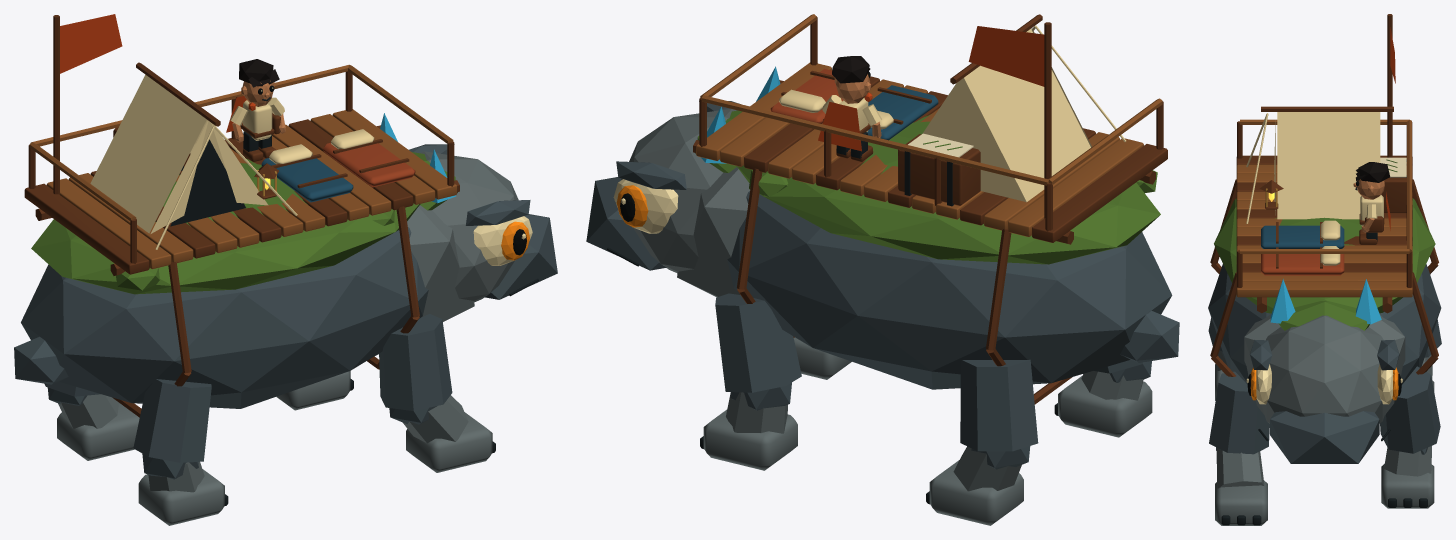
The model's file is rumu.glb.
The picture shows the model from 3 angles, left to right: view 1: azimuth 30°, elevation 25°; view 2: azimuth 150°, elevation 25°; view 3: azimuth 270°, elevation 25°; orthographic projection. The views are drawn at different scales.
Visible parts, largest first — view 1: Rumu body mesh, Camp static mesh, Rumu face mesh, Leg upper link.001, Leg upper link, Aru costume mesh, Foot mesh, Foot mesh.001, Foot mesh.002, Guild flag, Leg lower link.001, Foot mesh.003 (+6 smaller); view 2: Rumu body mesh, Camp static mesh, Rumu face mesh, Leg upper link.002, Leg upper link.003, Aru costume mesh, Foot mesh, Foot mesh.003, Foot mesh.002, Guild flag, Leg lower link.002, Leg lower link.003 (+7 smaller); view 3: Camp static mesh, Rumu face mesh, Rumu body mesh, Leg upper link.003, Leg upper link.001, Foot mesh.001, Aru costume mesh, Foot mesh.003, Leg lower link.001, Leg lower link.003, Soft stone eyebrow.001, Soft stone eyebrow (+2 smaller).
Part boxes in pixels (x1,y1,x2,y2): Rumu body mesh: [14, 158, 474, 408]; Camp static mesh: [24, 15, 459, 417]; Rumu face mesh: [380, 113, 557, 302]; Leg upper link.001: [379, 314, 452, 410]; Leg upper link: [133, 379, 211, 462]; Aru costume mesh: [226, 59, 280, 162]; Foot mesh: [138, 469, 228, 525]; Foot mesh.001: [406, 412, 495, 472]; Foot mesh.002: [57, 403, 139, 460]; Guild flag: [60, 14, 122, 73]; Leg lower link.001: [403, 395, 468, 443]; Foot mesh.003: [276, 371, 353, 410]; Rumu body mesh: [677, 114, 1179, 389]; Camp static mesh: [693, 14, 1167, 404]; Rumu face mesh: [586, 66, 780, 273]; Leg upper link.002: [960, 359, 1038, 451]; Leg upper link.003: [715, 293, 801, 392]; Aru costume mesh: [818, 56, 872, 161]; Foot mesh: [1054, 375, 1152, 437]; Foot mesh.003: [700, 409, 797, 470]; Foot mesh.002: [926, 460, 1023, 525]; Guild flag: [968, 26, 1044, 86]; Leg lower link.002: [953, 446, 1021, 491]; Leg lower link.003: [726, 392, 787, 433]; Camp static mesh: [1210, 14, 1438, 376]; Rumu face mesh: [1258, 279, 1390, 463]; Rumu body mesh: [1208, 198, 1441, 414]; Leg upper link.003: [1380, 366, 1440, 453]; Leg upper link.001: [1209, 371, 1269, 454]; Foot mesh.001: [1215, 480, 1267, 525]; Aru costume mesh: [1353, 162, 1390, 244]; Foot mesh.003: [1381, 464, 1434, 508]; Leg lower link.001: [1216, 448, 1264, 488]; Leg lower link.003: [1384, 446, 1431, 476]; Soft stone eyebrow.001: [1377, 339, 1399, 370]; Soft stone eyebrow: [1250, 339, 1272, 370].
Bounding box in the file's own units: 6.32 × 5.1 × 2.87.
